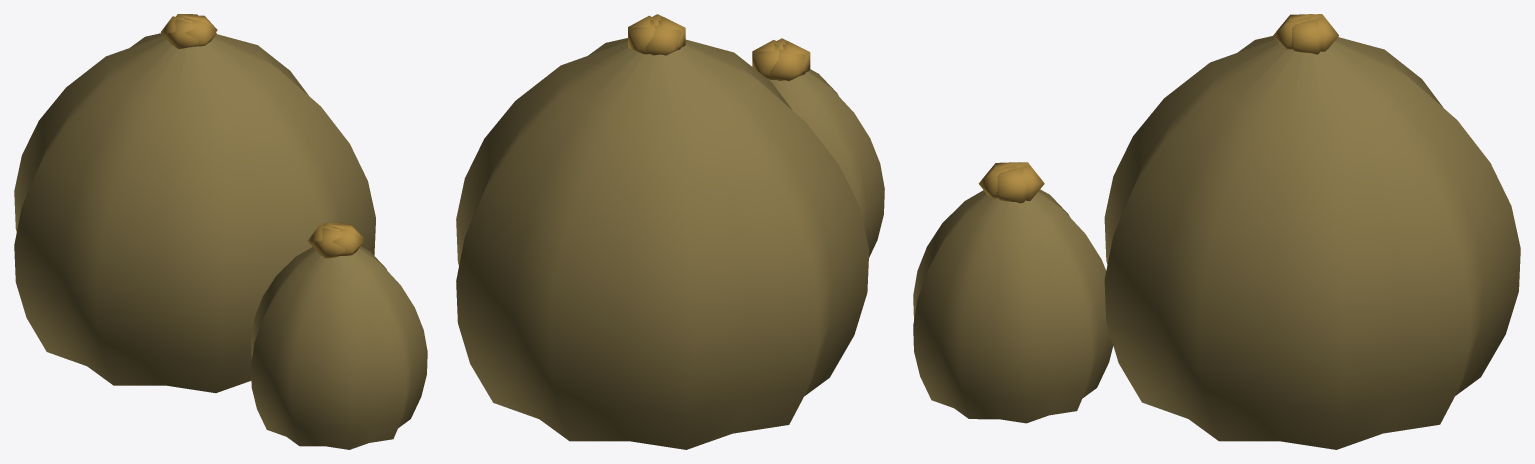
File: barrel_cactus_1_burnt1.glb
3 views of the same model, side by side, from view 1: azimuth 30°, elevation 25°; view 2: azimuth 150°, elevation 25°; view 3: azimuth 270°, elevation 25° (orthographic). The views are drawn at different scales.
Visible parts, largest first — view 1: barrel_cactus_1_burnt1; view 2: barrel_cactus_1_burnt1; view 3: barrel_cactus_1_burnt1.
Boxes of the visible parts, bbox=[...] form: barrel_cactus_1_burnt1: bbox=[14, 14, 427, 449]; barrel_cactus_1_burnt1: bbox=[456, 14, 884, 449]; barrel_cactus_1_burnt1: bbox=[913, 14, 1520, 449].
Bounding box in the file's own units: 0.6555 × 0.6119 × 0.9424.
